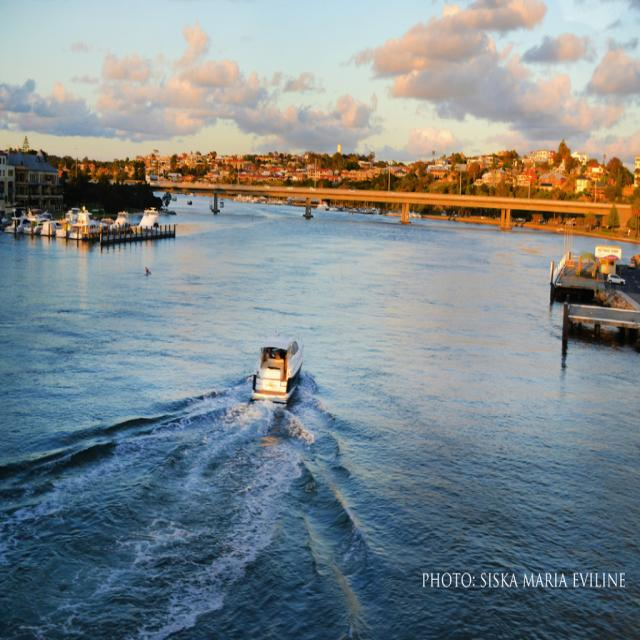Boat: (4, 203, 178, 246), (250, 334, 304, 398), (232, 195, 384, 216), (404, 208, 422, 221), (217, 200, 224, 208), (186, 201, 191, 206)
